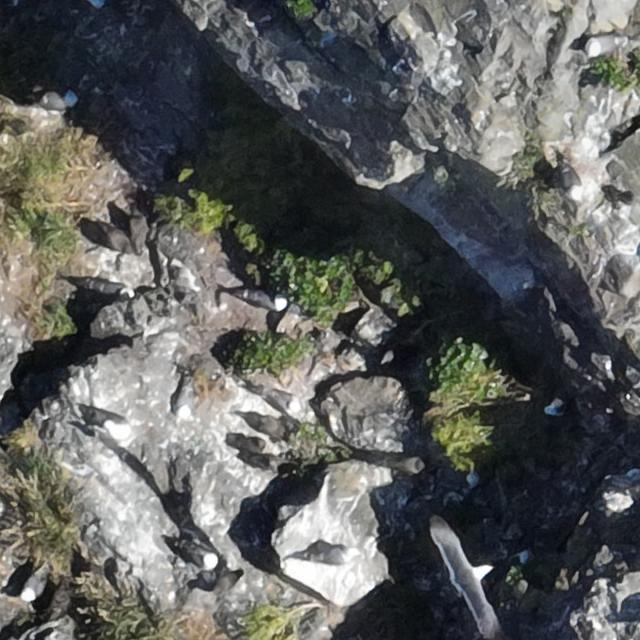F: (436, 530, 504, 637)
umineko: (75, 276, 139, 296), (559, 153, 583, 202), (241, 287, 287, 308), (176, 373, 197, 419), (304, 543, 349, 564), (96, 413, 130, 439), (270, 389, 299, 413), (586, 37, 617, 57), (22, 574, 44, 602), (41, 92, 71, 110), (194, 548, 216, 568)
